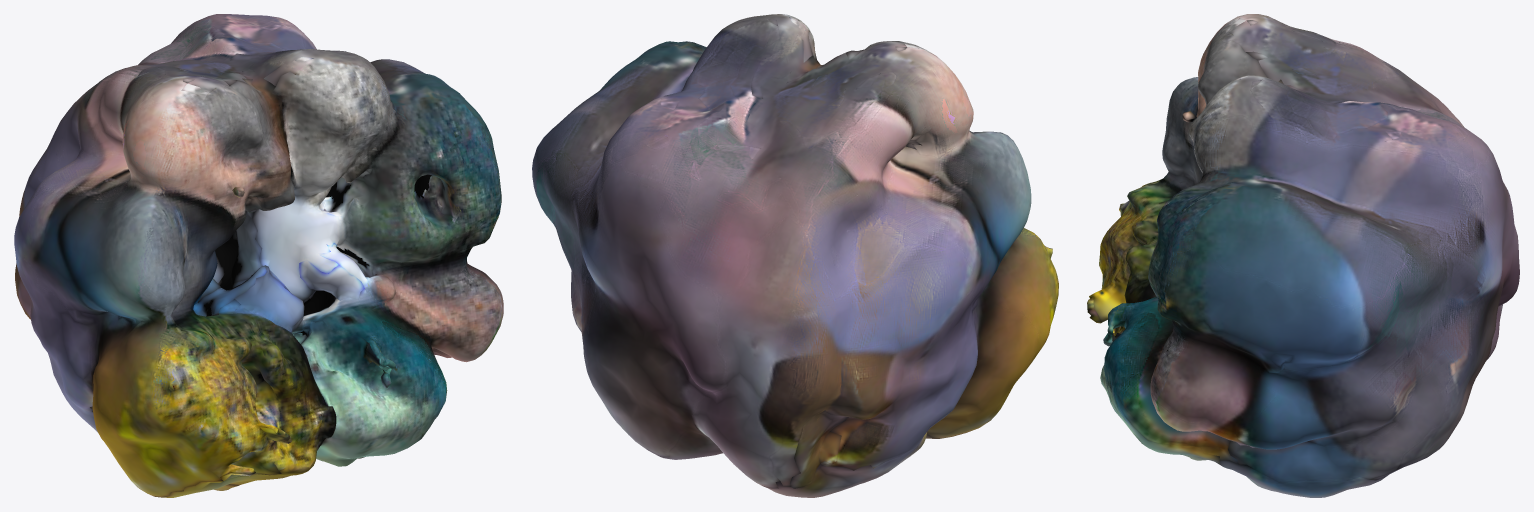
The picture shows the model from 3 angles, left to right: view 1: azimuth 30°, elevation 25°; view 2: azimuth 150°, elevation 25°; view 3: azimuth 270°, elevation 25°; orthographic projection. The views are drawn at different scales.
Parts seen in each view (by area): view 1: model.obj; view 2: model.obj; view 3: model.obj.
Boxes of the visible parts, left/top/right/bottom form: model.obj: left=14, top=14, right=503, bottom=497; model.obj: left=532, top=14, right=1058, bottom=497; model.obj: left=1087, top=14, right=1519, bottom=497.
Size of the model in its own units: 1.05 by 0.9642 by 0.9555.
Materials: 1 (1 with a texture image).
